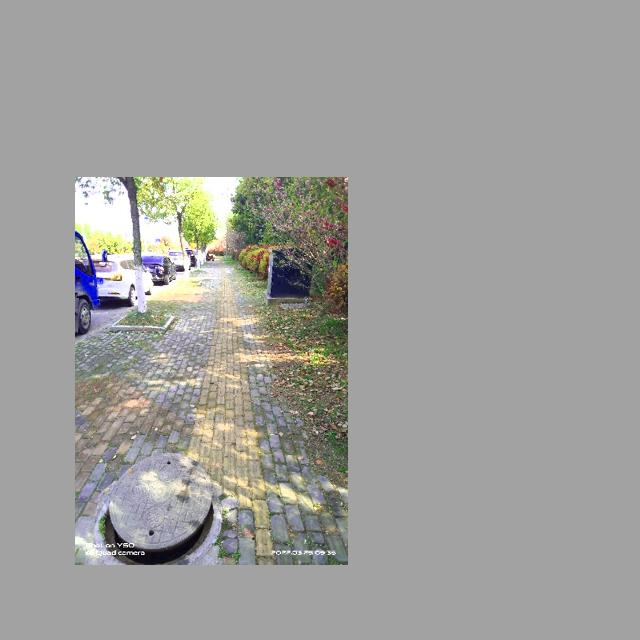uncovered: (93, 459, 222, 565)
